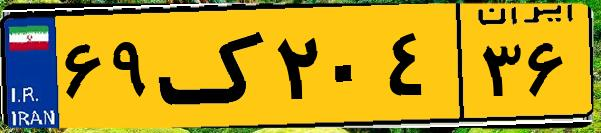0: (330, 28, 385, 110)
2: (270, 28, 330, 110)
3: (475, 38, 525, 113)
4: (385, 28, 445, 110)
6: (57, 26, 110, 100), (525, 38, 570, 115)
9: (110, 28, 158, 98)
ک: (158, 12, 270, 120)
